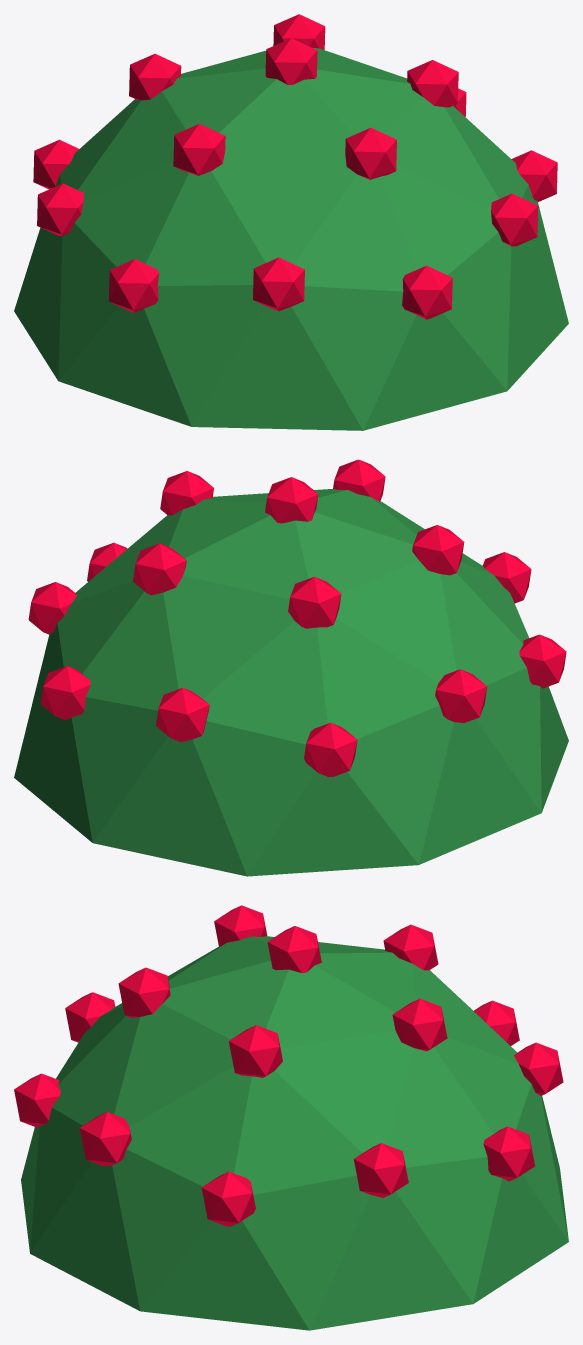
Rendered from BushFruitsRed.fbx.
The picture shows the model from 3 angles, top to bottom: view 1: azimuth 30°, elevation 25°; view 2: azimuth 150°, elevation 25°; view 3: azimuth 270°, elevation 25°; orthographic projection. The views are drawn at different scales.
Parts seen in each view (by area): view 1: BushFruitsRed; view 2: BushFruitsRed; view 3: BushFruitsRed.
Boxes of the visible parts, box(x1,y1,x2,y2) form: BushFruitsRed: box(14, 14, 568, 430); BushFruitsRed: box(14, 459, 568, 876); BushFruitsRed: box(14, 905, 568, 1330).
Bounding box in the file's own units: 605 × 336 × 592.
